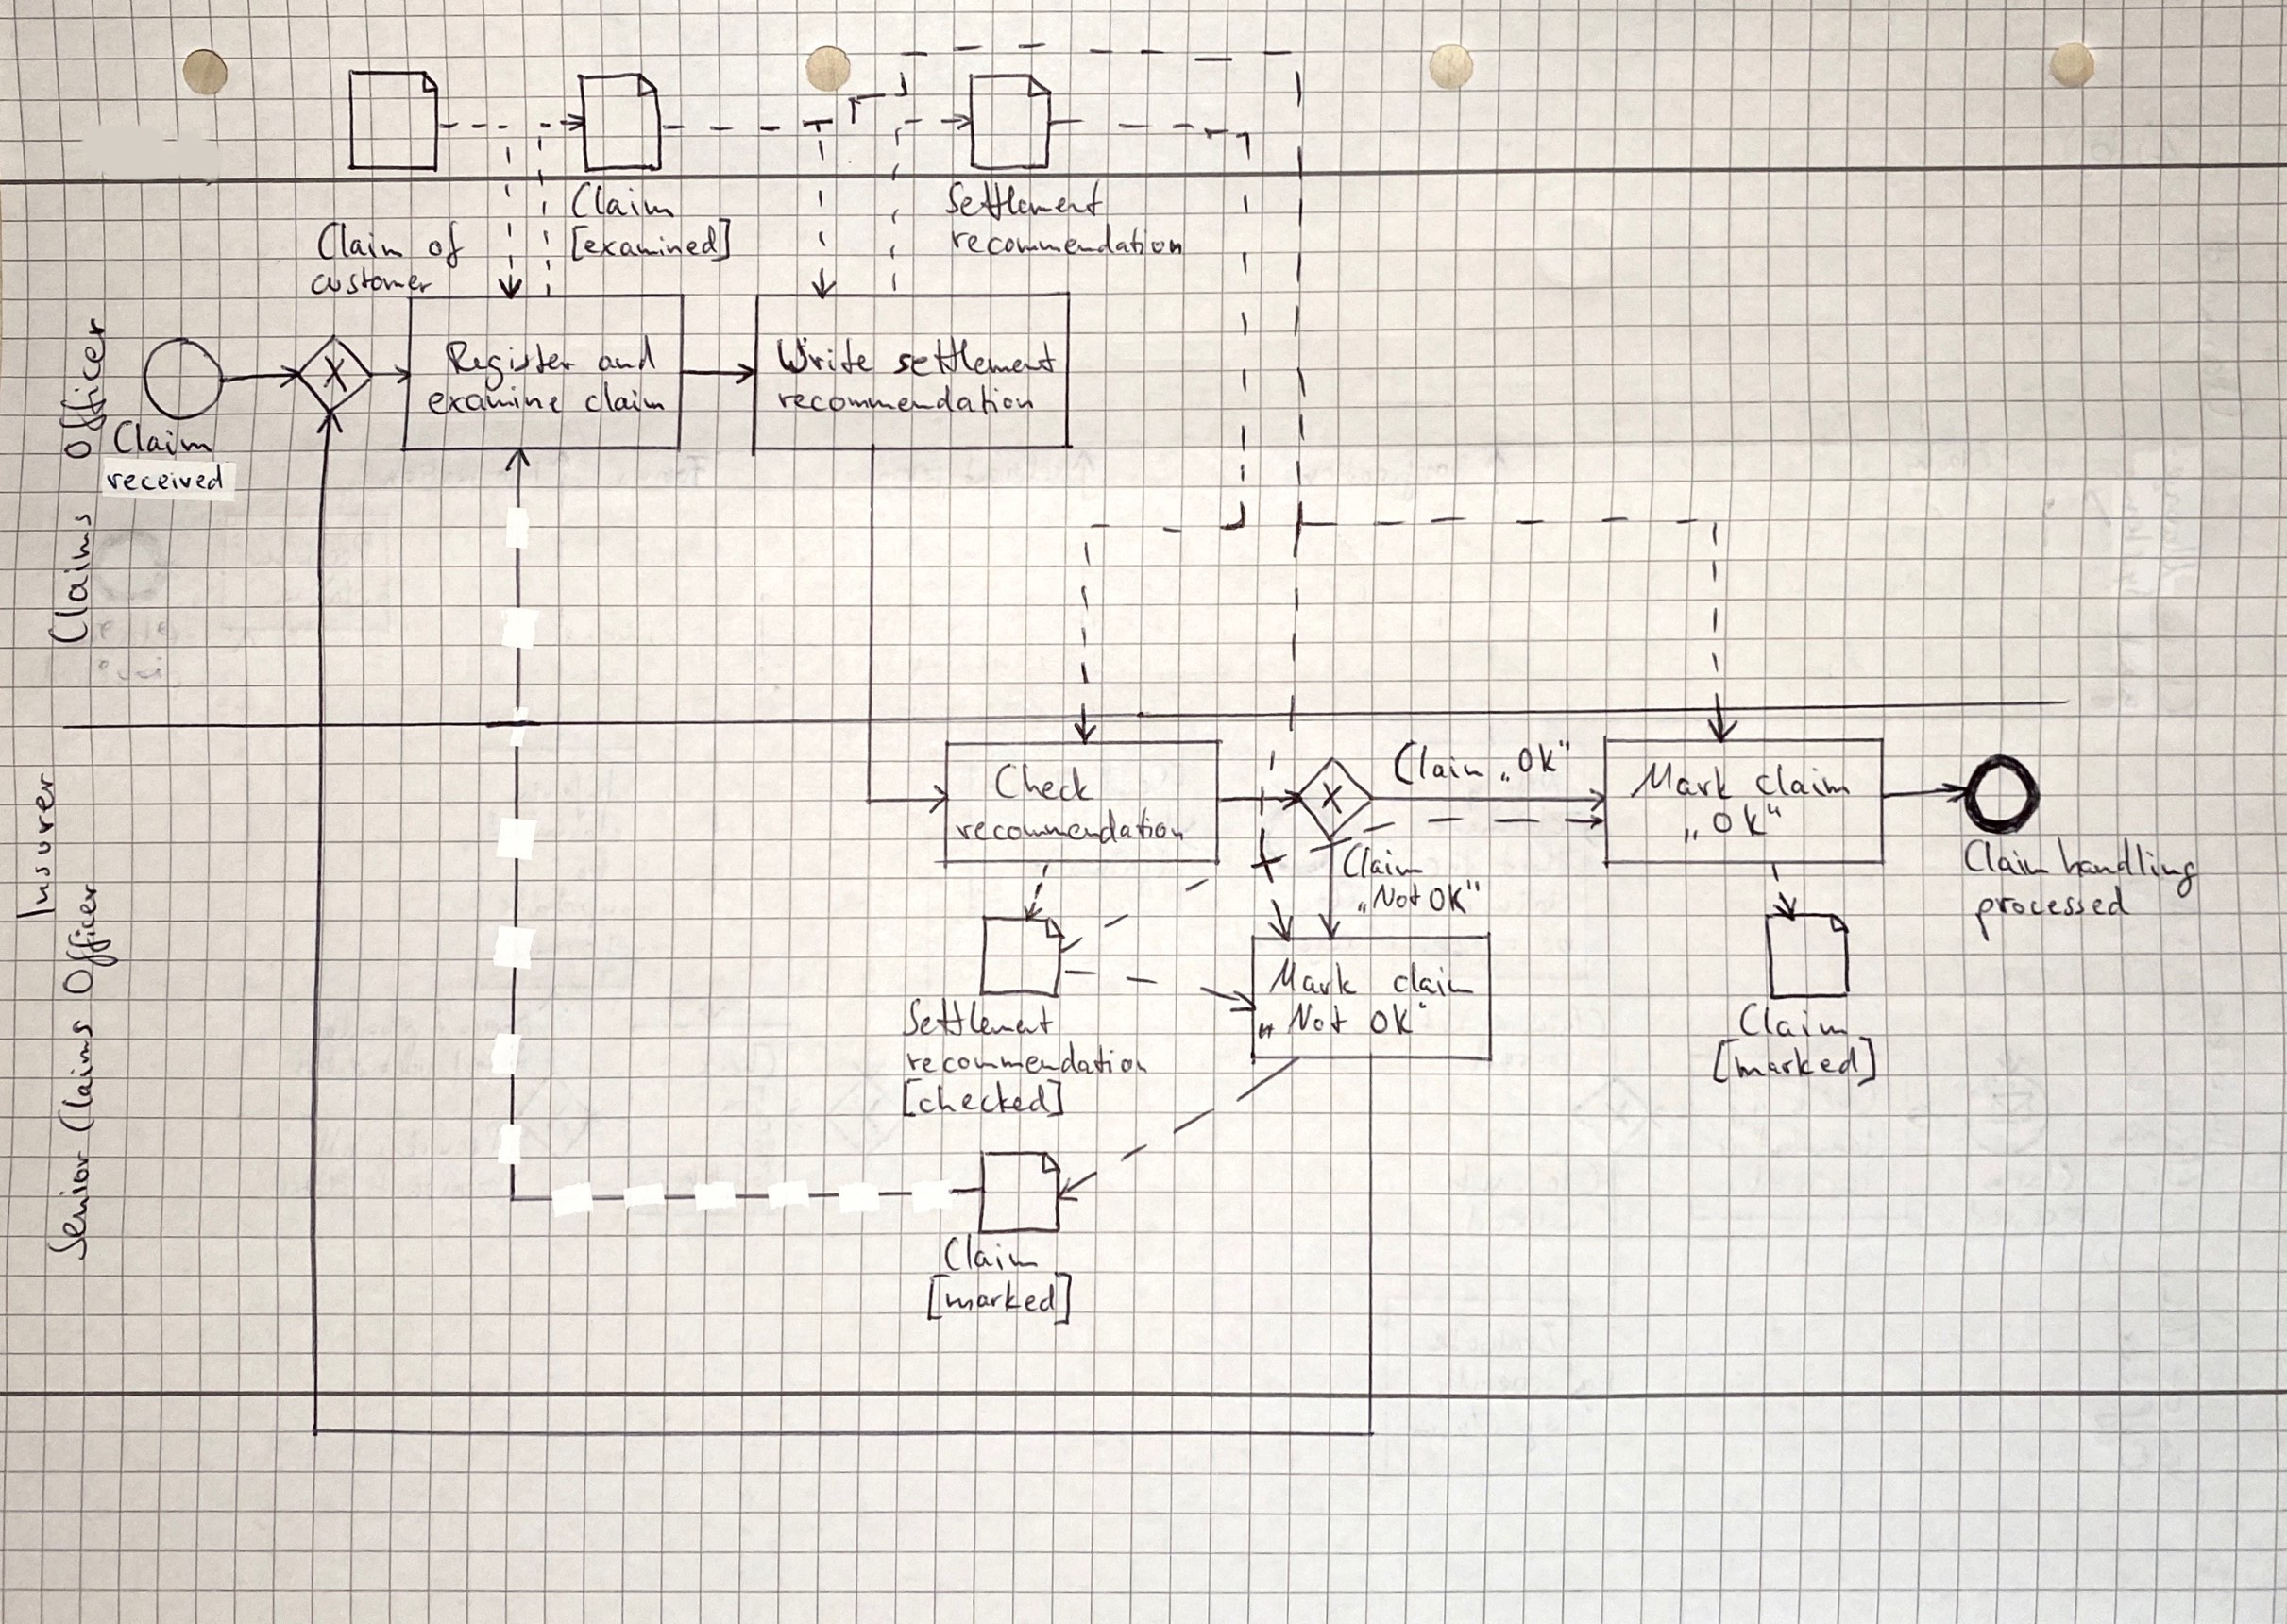Check: (990, 758, 1102, 808)
Claim: (1733, 998, 1858, 1046), (1389, 735, 1492, 791), (564, 176, 680, 225), (937, 1227, 1046, 1278), (107, 413, 218, 462), (311, 216, 411, 269), (1955, 831, 2057, 882), (1336, 838, 1431, 884)
Claims: (40, 510, 100, 652), (49, 1012, 102, 1139)
Insurer: (9, 768, 63, 928)
Mark: (1623, 758, 1739, 805), (1264, 954, 1364, 1002)
Not: (1253, 998, 1355, 1042), (1352, 877, 1426, 923)
OK: (1496, 735, 1575, 786), (1362, 997, 1431, 1042), (1424, 874, 1485, 919)
Officer: (56, 877, 127, 1000)
Register: (438, 334, 582, 397)
Senior: (40, 1144, 97, 1265)
Settlement: (939, 174, 1111, 228), (895, 993, 1062, 1042)
Write: (770, 330, 882, 380)
[checked]: (897, 1072, 1069, 1125)
[examined]: (564, 213, 735, 269)
[marked]: (1707, 1032, 1884, 1091), (921, 1267, 1078, 1330)
and: (592, 329, 663, 380)
claim: (1751, 759, 1858, 803), (1387, 956, 1482, 1000), (578, 376, 672, 420)
customer: (302, 262, 438, 301)
examine: (424, 380, 571, 420)
handling: (2051, 831, 2208, 903)
of: (422, 213, 471, 274)
officer: (51, 311, 113, 466)
ok: (1679, 796, 1786, 847)
processed: (1969, 881, 2138, 947)
received: (98, 459, 230, 499)
recommendation: (772, 378, 1039, 424), (949, 801, 1192, 849), (900, 1037, 1155, 1081), (946, 218, 1190, 262)
settlement: (886, 329, 1062, 381)
